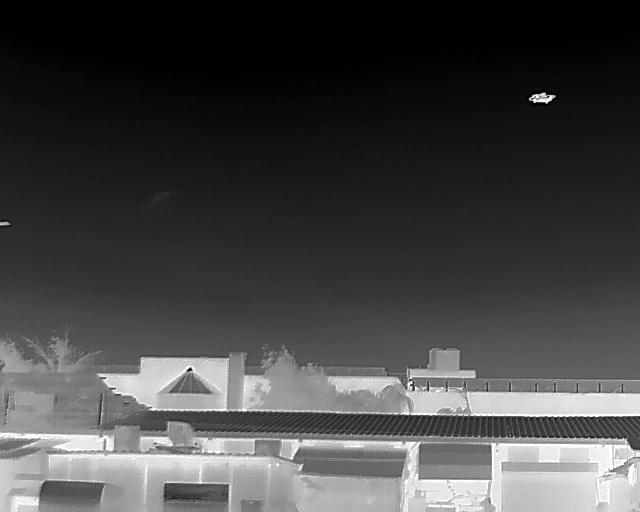fpv-drone: (528, 92, 555, 103)
